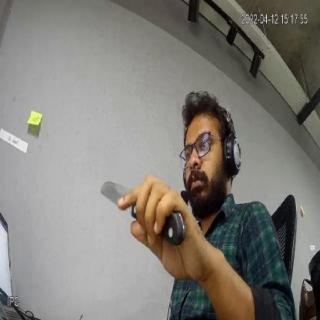knife: (99, 178, 140, 218)
